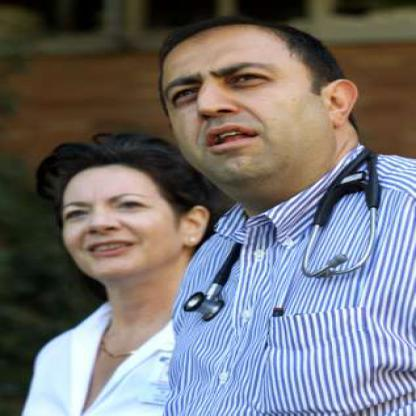face: (153, 20, 333, 189), (50, 151, 189, 284)
